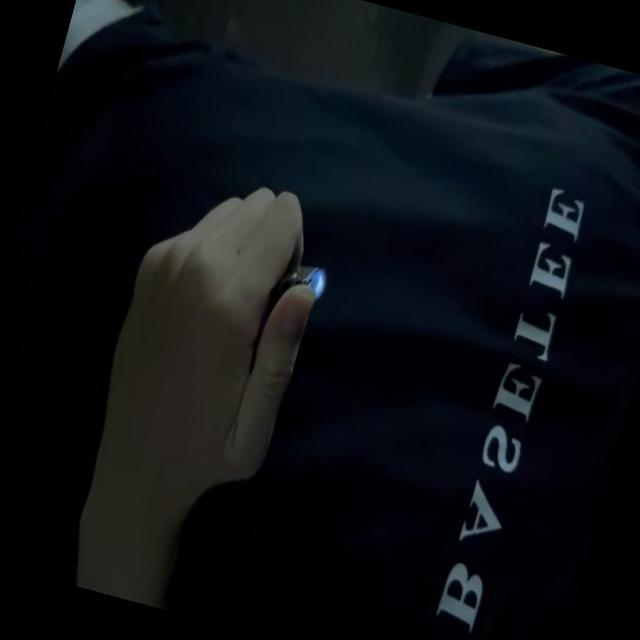Fire: (307, 269, 328, 300)
